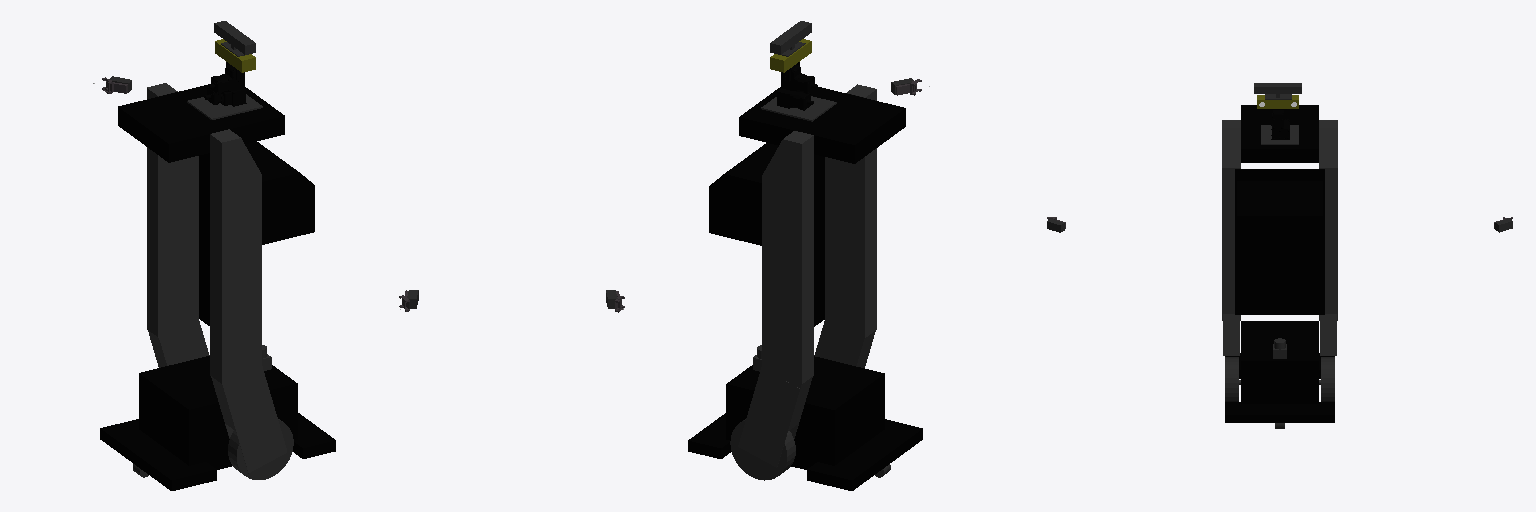
--- Render facts (derived) ---
The picture shows the robot from 3 angles, left to right: view 1: azimuth 30°, elevation 25°; view 2: azimuth 150°, elevation 25°; view 3: azimuth 270°, elevation 25°; orthographic projection.
Model phoebe with 41 links and 40 joints (16 revolute, 4 continuous, 4 prismatic, 16 fixed), rooted at base_footprint, posed all joints at 0.
Links seen in each view (by area): view 1: base_link, wheel_right, xtion_link, ptu_base_plate_link, bumblebee_link, ptu_tilt_link, ptu_pan_link; view 2: base_link, wheel_left, xtion_link, ptu_base_plate_link, bumblebee_link, ptu_tilt_link, ptu_pan_link; view 3: base_link, xtion_link, wheel_left, wheel_right.
Link boxes in pixels (bbox=[...]): base_link: bbox=[100, 83, 335, 490]; wheel_right: bbox=[228, 419, 293, 479]; xtion_link: bbox=[214, 21, 255, 56]; ptu_base_plate_link: bbox=[187, 94, 262, 119]; bumblebee_link: bbox=[215, 39, 255, 72]; ptu_tilt_link: bbox=[208, 65, 244, 94]; ptu_pan_link: bbox=[204, 87, 246, 106]; base_link: bbox=[688, 84, 922, 490]; wheel_left: bbox=[730, 419, 795, 480]; xtion_link: bbox=[770, 21, 811, 56]; ptu_base_plate_link: bbox=[761, 96, 836, 121]; bumblebee_link: bbox=[770, 39, 811, 72]; ptu_tilt_link: bbox=[781, 64, 817, 93]; ptu_pan_link: bbox=[777, 88, 813, 110]; base_link: bbox=[1222, 105, 1337, 422]; xtion_link: bbox=[1254, 83, 1301, 99]; wheel_left: bbox=[1321, 357, 1334, 401]; wheel_right: bbox=[1225, 357, 1238, 401].
Bounding box of the posed robot: 0.546 × 1.77 × 1.33 m (x, y, z).
6 mesh visuals loaded from 15 distinct referenced files (5 Collada DAE); not drawn: 20 (reference not matched to a file when rendering).

robot.urdf — phoebe:
<?xml version="1.0" ?>
<!-- =================================================================================== -->
<!-- |    This document was autogenerated by xacro from [local-path]/catkin_ws/src/mypb-robot/pb-robot/phoebe_description/phoebe.urdf.xacro | -->
<!-- |    EDITING THIS FILE BY HAND IS NOT RECOMMENDED                                 | -->
<!-- =================================================================================== -->
<robot name="phoebe" xmlns:xacro="http://www.ros.org/wiki/xacro">
  <gazebo>
    <plugin filename="libgazebo_ros_control.so" name="gazebo_ros_control">
      <publishTf>1</publishTf>
      <robotNamespace>/</robotNamespace>
      <robotSimType>gazebo_ros_control/DefaultRobotHWSim</robotSimType>
      <legacyModeNS>true</legacyModeNS>
    </plugin>
    <plugin filename="libgazebo_ros_joint_state_publisher.so" name="joint_state_publisher">
      <updateRate>50</updateRate>
    </plugin>
  </gazebo>
  <gazebo>
    <plugin filename="libroboticsgroup_gazebo_mimic_joint_plugin.so" name="right_finger_mimic_joint_plugin">
      <joint>right_arm_gripper_joint</joint>
      <mimicJoint>right_arm_gripper_joint2</mimicJoint>
      <multiplier>-1</multiplier>
      <maxEffort>100.0</maxEffort>
    </plugin>
  </gazebo>
  <gazebo>
    <plugin filename="libroboticsgroup_gazebo_mimic_joint_plugin.so" name="left_finger_mimic_joint_plugin">
      <joint>left_arm_gripper_joint</joint>
      <mimicJoint>left_arm_gripper_joint2</mimicJoint>
      <multiplier>-1</multiplier>
      <maxEffort>100.0</maxEffort>
    </plugin>
  </gazebo>
  <gazebo reference="base_link">
    <kp>1e+13</kp>
    <kd>1</kd>
    <mu1>1.0</mu1>
    <mu2>10.0</mu2>
    <material>Gazebo/Grey</material>
  </gazebo>
  <gazebo reference="left_arm_base_link">
    <kp>1e+13</kp>
    <kd>1</kd>
    <mu1>1.0</mu1>
    <mu2>10.0</mu2>
    <material>Gazebo/Black</material>
  </gazebo>
  <gazebo reference="right_arm_base_link">
    <kp>1e+13</kp>
    <kd>1</kd>
    <mu1>1.0</mu1>
    <mu2>10.0</mu2>
    <material>Gazebo/Black</material>
  </gazebo>
  <gazebo reference="wheel_left">
    <mu1 value="220.0"/>
    <mu2 value="100.0"/>
    <kp>1e+13</kp>
    <kd>1</kd>
    <material>Gazebo/White</material>
  </gazebo>
  <gazebo reference="wheel_right">
    <mu1 value="220.0"/>
    <mu2 value="100.0"/>
    <kp>1e+13</kp>
    <kd>1</kd>
    <material>Gazebo/White</material>
  </gazebo>
  <gazebo>
    <plugin filename="libgazebo_ros_diff_drive.so" name="differential_drive_controller">
      <alwaysOn>true</alwaysOn>
      <updateRate>50</updateRate>
      <leftJoint>wheel_left_joint</leftJoint>
      <rightJoint>wheel_right_joint</rightJoint>
      <wheelSeparation>0.31</wheelSeparation>
      <wheelDiameter>0.19</wheelDiameter>
      <torque>0.1</torque>
      <commandTopic>cmd_vel</commandTopic>
      <odometryTopic>odom</odometryTopic>
      <odometryFrame>odom</odometryFrame>
      <robotBaseFrame>base_footprint</robotBaseFrame>
      <legacyMode>false</legacyMode>
      <publishWheelTF>true</publishWheelTF>
      <publishOdomTF>true</publishOdomTF>
      <publishWheelJointState>true</publishWheelJointState>
      <publishTf>1</publishTf>
      <wheelAcceleration>1</wheelAcceleration>
      <wheelTorque>5</wheelTorque>
      <odometrySource>world</odometrySource>
    </plugin>
  </gazebo>
  <!--
  <gazebo reference="camera">
    <material>Gazebo/Green</material>
    <sensor type="camera" name="camera1">
      <update_rate>30.0</update_rate>
      <camera name="head">
        <horizontal_fov>1.3962634</horizontal_fov>
        <image>
          <width>800</width>
          <height>800</height>
          <format>R8G8B8</format>
        </image>
        <clip>
          <near>0.02</near>
          <far>300</far>
        </clip>
      </camera>
      <plugin name="camera_controller" filename="libgazebo_ros_camera.so">
        <alwaysOn>true</alwaysOn>
        <updateRate>0.0</updateRate>
        <cameraName>mybot/camera1</cameraName>
        <imageTopicName>image_raw</imageTopicName>
        <cameraInfoTopicName>camera_info</cameraInfoTopicName>
        <frameName>camera</frameName>
        <hackBaseline>0.07</hackBaseline>
        <distortionK1>0.0</distortionK1>
        <distortionK2>0.0</distortionK2>
        <distortionK3>0.0</distortionK3>
        <distortionT1>0.0</distortionT1>
        <distortionT2>0.0</distortionT2>
      </plugin>
    </sensor>
  </gazebo>
  -->
  <!-- <transmission name="wheel_left_joint_trans">
    <type>transmission_interface/SimpleTransmission</type>
    <joint name="wheel_left_joint">
      <hardwareInterface>hardware_interface/VelocityJointInterface</hardwareInterface>
    </joint>
    <actuator name="wheel_left_joint_motor">
      <hardwareInterface>hardware_interface/VelocityJointInterface</hardwareInterface>
    </actuator>
  </transmission>
  
  <transmission name="wheel_right_joint_trans">
    <type>transmission_interface/SimpleTransmission</type>
    <joint name="wheel_right_joint">
      <hardwareInterface>hardware_interface/VelocityJointInterface</hardwareInterface>
    </joint>
    <actuator name="wheel_right_joint_motor">
      <hardwareInterface>hardware_interface/VelocityJointInterface</hardwareInterface>
    </actuator>
  </transmission> -->
  <transmission name="ptu_pan_joint_trans">
    <type>transmission_interface/SimpleTransmission</type>
    <joint name="ptu_pan_joint">
      <hardwareInterface>hardware_interface/PositionJointInterface</hardwareInterface>
    </joint>
    <actuator name="ptu_pan_joint_motor">
      <hardwareInterface>hardware_interface/PositionJointInterface</hardwareInterface>
    </actuator>
  </transmission>
  <transmission name="ptu_tilt_joint_trans">
    <type>transmission_interface/SimpleTransmission</type>
    <joint name="ptu_tilt_joint">
      <hardwareInterface>hardware_interface/PositionJointInterface</hardwareInterface>
    </joint>
    <actuator name="ptu_tilt_joint_motor">
      <hardwareInterface>hardware_interface/PositionJointInterface</hardwareInterface>
    </actuator>
  </transmission>
  <gazebo reference="xtion_link">
    <sensor name="xtion_link_camera" type="depth">
      <update_rate>30</update_rate>
      <camera>
        <horizontal_fov>1.01229096</horizontal_fov>
        <image>
          <width>640</width>
          <height>480</height>
          <format>R8G8B8</format>
        </image>
        <clip>
          <near>0.08</near>
          <far>3.5</far>
        </clip>
      </camera>
      <plugin filename="libgazebo_ros_openni_kinect.so" name="xtion_link_controller">
        <baseline>0.2</baseline>
        <alwaysOn>true</alwaysOn>
        <updateRate>0.0</updateRate>
        <cameraName>xtion_ir</cameraName>
        <imageTopicName>/phoebe/color/image_raw</imageTopicName>
        <cameraInfoTopicName>/phoebe/color/camera_info</cameraInfoTopicName>
        <depthImageTopicName>/phoebe/depth/image_raw</depthImageTopicName>
        <depthImageInfoTopicName>/phoebe/depth/camera_info</depthImageInfoTopicName>
        <pointCloudTopicName>/phoebe/depth/points</pointCloudTopicName>
        <frameName>xtion_link</frameName>
        <pointCloudCutoff>0.5</pointCloudCutoff>
        <pointCloudCutoffMax>3.0</pointCloudCutoffMax>
        <distortionK1>0.00000001</distortionK1>
        <distortionK2>0.00000001</distortionK2>
        <distortionK3>0.00000001</distortionK3>
        <distortionT1>0.00000001</distortionT1>
        <distortionT2>0.00000001</distortionT2>
        <CxPrime>0</CxPrime>
        <Cx>0</Cx>
        <Cy>0</Cy>
        <focalLength>0</focalLength>
        <hackBaseline>0</hackBaseline>
      </plugin>
    </sensor>
  </gazebo>
  <!-- hokuyo -->
  <gazebo reference="hokuyo_link">
    <material>Gazebo/Black</material>
    <sensor name="head_hokuyo_sensor" type="ray">
      <pose>0 0 0 0 0 0</pose>
      <visualize>false</visualize>
      <update_rate>20</update_rate>
      <ray>
        <scan>
          <horizontal>
            <samples>720</samples>
            <resolution>1</resolution>
            <min_angle>-1.570796</min_angle>
            <max_angle>1.570796</max_angle>
          </horizontal>
        </scan>
        <range>
          <min>0.10</min>
          <max>30.0</max>
          <resolution>0.01</resolution>
        </range>
        <noise>
          <type>gaussian</type>
          <!-- Noise parameters based on published spec for Hokuyo laser
               achieving "+-30mm" accuracy at range < 10m.  A mean of 0.0m and
               stddev of 0.01m will put 99.7% of samples within 0.03m of the true
               reading. -->
          <mean>0.0</mean>
          <stddev>0.01</stddev>
        </noise>
      </ray>
      <plugin filename="libgazebo_ros_laser.so" name="gazebo_ros_head_hokuyo_controller">
        <topicName>/phoebe/laser/scan</topicName>
        <frameName>hokuyo_link</frameName>
      </plugin>
    </sensor>
  </gazebo>
  <link name="base_footprint"/>
  <joint name="base_joint" type="fixed">
    <origin rpy="0 0 0" xyz="0 0 0.0012"/>
    <parent link="base_footprint"/>
    <child link="base_link"/>
  </joint>
  <link name="base_link">
    <inertial>
      <origin rpy="0 0 0" xyz="-0.040872 0.0 0.56"/>
      <mass value="12"/>
      <!-- inretia tensor for solid cuboid: m=12, h=1.12, d=0.49, w=0.41 -->
      <inertia ixx="1.4225" ixy="0" ixz="0" iyy="1.4945" iyz="0" izz="0.4082"/>
    </inertial>
    <visual>
      <origin rpy="0 0 0" xyz="0 0 0"/>
      <geometry>
        <mesh filename="package://phoebe_description/meshes/phoebe.dae"/>
      </geometry>
    </visual>
    <collision>
      <origin rpy="0 0 0" xyz="0 0 0"/>
      <geometry>
        <mesh filename="package://phoebe_description/meshes/phoebe.dae"/>
      </geometry>
    </collision>
  </link>
  <joint name="wheel_rear_joint" type="continuous">
    <parent link="base_link"/>
    <child link="wheel_rear"/>
    <origin rpy="0 0 0" xyz="-0.29 0.0 0.020"/>
    <axis rpy="0 0 0" xyz="0 1 0"/>
    <limit effort="10000" velocity="1000"/>
    <joint_properties damping="1.0" friction="1.0"/>
  </joint>
  <link name="wheel_rear">
    <inertial>
      <!--origin rpy="0 0 0" xyz="0 0 0"/-->
      <origin rpy="0 1.5707 1.5707" xyz="0 0 0"/>
      <mass value="0.25"/>
      <!-- inretia tensor for solid cylinder: m=0.5, h=0.05, r=0.095 -->
      <inertia ixx="1.232291667e-03" ixy="0" ixz="0" iyy="1.232291667e-03" iyz="0" izz="2.25625e-03"/>
    </inertial>
    <visual>
      <origin rpy="0 1.5707 1.5707" xyz="0 0 0"/>
      <geometry>
        <cylinder length="0.04" radius="0.02"/>
      </geometry>
      <material name="blackish">
        <color rgba="0.2 0.2 0.2 1"/>
      </material>
    </visual>
    <collision>
      <origin rpy="0 1.5707 1.5707" xyz="0 0 0"/>
      <geometry>
        <cylinder length="0.04" radius="0.02"/>
      </geometry>
    </collision>
  </link>
  <joint name="wheel_front_joint" type="continuous">
    <parent link="base_link"/>
    <child link="wheel_front"/>
    <origin rpy="0 0 0" xyz="0.206 0 0.020"/>
    <axis rpy="0 0 0" xyz="0 1 0"/>
    <limit effort="10000" velocity="1000"/>
    <joint_properties damping="1.0" friction="1.0"/>
  </joint>
  <link name="wheel_front">
    <inertial>
      <!--origin rpy="0 0 0" xyz="0 0 0"/-->
      <origin rpy="0 1.5707 1.5707" xyz="0 0 0"/>
      <mass value="0.25"/>
      <inertia ixx="1.232291667e-03" ixy="0" ixz="0" iyy="1.232291667e-03" iyz="0" izz="2.25625e-03"/>
    </inertial>
    <visual>
      <origin rpy="0 1.5707 1.5707" xyz="0 0 0"/>
      <geometry>
        <cylinder length="0.04" radius="0.02"/>
      </geometry>
      <material name="blackish"/>
    </visual>
    <collision>
      <origin rpy="0 1.5707 1.5707" xyz="0 0 0"/>
      <geometry>
        <cylinder length="0.04" radius="0.02"/>
      </geometry>
    </collision>
  </link>
  <joint name="wheel_left_joint" type="continuous">
    <parent link="base_link"/>
    <child link="wheel_left"/>
    <!--origin rpy="1.570796 0 0" xyz="0.0 0.18 0.095"/-->
    <origin rpy="0 0 0" xyz="0.0 0.18 0.095"/>
    <!--axis xyz="0 0 1"/-->
    <axis xyz="0 1 0"/>
  </joint>
  <link name="wheel_left">
    <inertial>
      <!--origin rpy="0 0 0" xyz="0 0 0"/-->
      <origin rpy="0 1.5707 1.5707" xyz="0 0 0"/>
      <mass value="0.5"/>
      <!-- inretia tensor for solid cylinder: m=0.5, h=0.05, r=0.095 -->
      <inertia ixx="1.232291667e-03" ixy="0" ixz="0" iyy="1.232291667e-03" iyz="0" izz="2.25625e-03"/>
    </inertial>
    <visual>
      <!--origin rpy="0 0 0" xyz="0 0 0"/-->
      <origin rpy="0 1.5707 1.5707" xyz="0 0 0"/>
      <geometry>
        <cylinder length="0.05" radius="0.095"/>
      </geometry>
      <material name="blackish">
        <color rgba="0.2 0.2 0.2 1"/>
      </material>
    </visual>
    <collision>
      <!--origin rpy="0 0 0" xyz="0 0 0"/-->
      <origin rpy="0 1.5707 1.5707" xyz="0 0 0"/>
      <geometry>
        <cylinder length="0.05" radius="0.095"/>
      </geometry>
    </collision>
  </link>
  <joint name="wheel_right_joint" type="continuous">
    <parent link="base_link"/>
    <child link="wheel_right"/>
    <!--origin rpy="1.570796 0 0" xyz="0.0 -0.18 0.095"/-->
    <origin rpy="0 0 0" xyz="0.0 -0.18 0.095"/>
    <!--axis xyz="0 0 1"/-->
    <axis xyz="0 1 0"/>
  </joint>
  <link name="wheel_right">
    <inertial>
      <!--origin rpy="0 0 0" xyz="0 0 0"/-->
      <origin rpy="0 1.5707 1.5707" xyz="0 0 0"/>
      <mass value="0.5"/>
      <!-- inretia tensor for solid cylinder: m=0.5, h=0.05, r=0.095 -->
      <inertia ixx="1.232291667e-03" ixy="0" ixz="0" iyy="1.232291667e-03" iyz="0" izz="2.25625e-03"/>
    </inertial>
    <visual>
      <!--origin rpy="0 0 0" xyz="0 0 0"/-->
      <origin rpy="0 1.5707 1.5707" xyz="0 0 0"/>
      <geometry>
        <cylinder length="0.05" radius="0.095"/>
      </geometry>
      <material name="blackish"/>
    </visual>
    <collision>
      <!--origin rpy="0 0 0" xyz="0 0 0"/-->
      <origin rpy="0 1.5707 1.5707" xyz="0 0 0"/>
      <geometry>
        <cylinder length="0.05" radius="0.095"/>
      </geometry>
    </collision>
  </link>
  <!-- Cyton Gamma 1500 models -->
  <!-- Right arm -->
  <joint name="right_arm_joint" type="fixed">
    <parent link="base_link"/>
    <child link="right_arm_base_link"/>
    <origin rpy="1.5708 -1.5708 0" xyz="0.067 -0.162 0.8"/>
  </joint>
  <link name="right_arm_base_link">
    <visual>
      <origin rpy="0 0 0" xyz="0 0 0"/>
      <geometry>
        <mesh filename="package://cyton_gamma_1500_description/meshes/base.dae"/>
      </geometry>
    </visual>
    <inertial>
      <origin rpy="0 0 0" xyz="0.0 0 0"/>
      <mass value="0.478571"/>
      <!-- inretia tensor for solid cuboid: m=0.478571, w=0.177, h=0.074, d=0.150 -->
      <inertia ixx="1.47e-03" ixy="0" ixz="0" iyy="2.15e-03" iyz="0" izz="1.12e-03"/>
    </inertial>
    <collision>
      <!--origin xyz="0 0.0115 0.047"/-->
      <origin rpy="0 0 0" xyz="0 0 0"/>
      <geometry>
        <!--box size="0.154 0.177 0.094"/-->
        <box size="0.154 0.16 0.075"/>
      </geometry>
    </collision>
  </link>
  <joint name="right_arm_shoulder_roll_joint" type="revolute">
    <parent link="right_arm_base_link"/>
    <child link="right_arm_shoulder_roll"/>
    <origin rpy="0 0 0" xyz="0 0 0.05315"/>
    <limit effort="100.0" lower="-2.618" upper="2.618" velocity="1.0"/>
    <axis xyz="0 0 1"/>
  </joint>
  <link name="right_arm_shoulder_roll">
    <visual>
      <origin rpy="1.5708 0 0.384" xyz="0 0 0"/>
      <geometry>
        <mesh filename="package://cyton_gamma_1500_description/meshes/shoulder_roll.dae"/>
      </geometry>
    </visual>
    <collision>
      <origin xyz="0.0 0.0 0.0"/>
      <geometry>
        <!--box size="0.09829 0.18143 0.08392"/-->
        <box size="0.068 0.10 0.065"/>
      </geometry>
    </collision>
    <inertial>
      <origin rpy="0 0 0" xyz="0 0 0.12"/>
      <mass value="0.468571"/>
      <!-- inretia tensor for solid cylinder: m=0.468571, h=0.09248, r=0.044737 -->
      <inertia ixx="4.7e-04" ixy="0" ixz="0" iyy="5.7e-04" iyz="0" izz="5.7e-04"/>
    </inertial>
  </link>
  <joint name="right_arm_shoulder_pitch_joint" type="revolute">
    <parent link="right_arm_shoulder_roll"/>
    <child link="right_arm_shoulder_pitch"/>
    <origin rpy="0 0 0" xyz="0.0205 0 0.12435"/>
    <limit effort="100.0" lower="-1.8326" upper="1.8326" velocity="1.0"/>
    <axis xyz="1 0 0"/>
  </joint>
  <transmission name="right_arm_tran1">
    <type>transmission_interface/SimpleTransmission</type>
    <joint name="right_arm_shoulder_roll_joint">
      <hardwareInterface>hardware_interface/PositionJointInterface</hardwareInterface>
    </joint>
    <actuator name="right_arm_motor1">
      <hardwareInterface>hardware_interface/PositionJointInterface</hardwareInterface>
    </actuator>
  </transmission>
  <link name="right_arm_shoulder_pitch">
    <visual>
      <origin rpy="1.5708 0 0" xyz="0 0 0"/>
      <geometry>
        <mesh filename="package://cyton_gamma_1500_description/meshes/shoulder_pitch.dae"/>
      </geometry>
    </visual>
    <collision>
      <origin xyz="-0.02 0.0 0.0"/>
      <geometry>
        <sphere radius="0.055"/>
        <!--box size="0.098 0.08 0.11"/-->
      </geometry>
    </collision>
    <inertial>
      <!--origin rpy="0 0 0" xyz="-0.0214 0 0.117"/-->
      <origin rpy="0 0 0" xyz="0 0 0"/>
      <mass value="0.4285714"/>
      <!-- inretia tensor for solid cylinder: m=0.4285714, h=0.09248, r=0.04204 -->
      <inertia ixx="4.9e-04" ixy="0" ixz="0" iyy="3.8e-04" iyz="0" izz="4.9e-04"/>
    </inertial>
  </link>
  <joint name="right_arm_shoulder_yaw_joint" type="revolute">
    <parent link="right_arm_shoulder_pitch"/>
    <child link="right_arm_shoulder_yaw"/>
    <origin rpy="0 0 0" xyz="-0.0215 -0.0205 0.1255"/>
    <limit effort="100.0" lower="-1.8326" upper="1.8326" velocity="1.0"/>
    <axis xyz="0 -1 0"/>
  </joint>
  <transmission name="right_arm_tran2">
    <type>transmission_interface/SimpleTransmission</type>
    <joint name="right_arm_shoulder_pitch_joint">
      <hardwareInterface>hardware_interface/PositionJointInterface</hardwareInterface>
    </joint>
    <actuator name="right_arm_motor2">
      <hardwareInterface>hardware_interface/PositionJointInterface</hardwareInterface>
    </actuator>
  </transmission>
  <link name="right_arm_shoulder_yaw">
    <visual>
      <origin rpy="1.5708 0 -1.5708" xyz="0 0 0.0"/>
      <geometry>
        <mesh filename="package://cyton_gamma_1500_description/meshes/shoulder_yaw.dae"/>
      </geometry>
    </visual>
    <collision>
      <origin xyz=" -0.002 0.02 -0.01"/>
      <geometry>
        <sphere radius="0.055"/>
        <!--box size="0.08 0.1 0.11"/-->
      </geometry>
    </collision>
    <inertial>
      <!--origin rpy="0 0 0" xyz="-0.002 0.021 0.1135"/-->
      <origin rpy="0 0 0" xyz="0 0 0"/>
      <mass value="0.408571"/>
      <!-- inretia tensor for solid cylinder: m=0.408571, h=0.084081, r=0.036785 -->
      <inertia ixx="2.8e-04" ixy="0" ixz="0" iyy="3.8e-04" iyz="0" izz="3.8e-04"/>
    </inertial>
  </link>
  <transmission name="right_arm_tran3">
    <type>transmission_interface/SimpleTransmission</type>
    <joint name="right_arm_shoulder_yaw_joint">
      <hardwareInterface>hardware_interface/PositionJointInterface</hardwareInterface>
    </joint>
    <actuator name="right_arm_motor3">
      <hardwareInterface>hardware_interface/PositionJointInterface</hardwareInterface>
    </actuator>
  </transmission>
  <joint name="right_arm_elbow_pitch_joint" type="revolute">
    <parent link="right_arm_shoulder_yaw"/>
    <child link="right_arm_elbow_pitch"/>
    <origin rpy="0 0 0" xyz="0.018 0.0206 0.1158"/>
    <limit effort="100.0" lower="-1.8326" upper="1.8326" velocity="1.0"/>
    <axis xyz="1 0 0"/>
  </joint>
  <link name="right_arm_elbow_pitch">
    <visual>
      <origin rpy="1.5708 0 3.1416" xyz="0 0 0"/>
      <geometry>
        <mesh filename="package://cyton_gamma_1500_description/meshes/elbow_pitch.dae"/>
      </geometry>
    </visual>
    <collision>
      <origin xyz="-0.022 0.0 -0.006"/>
      <geometry>
        <sphere radius="0.055"/>
        <!--box size="0.09 0.1 0.11"/-->
      </geometry>
    </collision>
    <inertial>
      <origin rpy="0 0 0" xyz="0 0 0"/>
      <!--origin rpy="0 0 0" xyz="-0.0176 0.001 0.095"/-->
      <mass value="0.388671"/>
      <!-- inretia tensor for solid cylinder: m=0.388671, h=0.06705, r=0.028975 -->
      <inertia ixx="2.3e-04" ixy="0" ixz="0" iyy="1.6e-04" iyz="0" izz="2.3e-04"/>
    </inertial>
  </link>
  <transmission name="right_arm_tran4">
    <type>transmission_interface/SimpleTransmission</type>
    <joint name="right_arm_elbow_pitch_joint">
      <hardwareInterface>hardware_interface/PositionJointInterface</hardwareInterface>
    </joint>
    <actuator name="right_arm_motor4">
      <hardwareInterface>hardware_interface/PositionJointInterface</hardwareInterface>
    </actuator>
  </transmission>
  <joint name="right_arm_elbow_yaw_joint" type="revolute">
    <parent link="right_arm_elbow_pitch"/>
    <child link="right_arm_elbow_yaw"/>
    <origin rpy="0 0 0" xyz="-0.0171 -0.018 0.09746"/>
    <limit effort="100.0" lower="-1.8326" upper="1.8326" velocity="1.0"/>
    <axis xyz="0 -1 0"/>
  </joint>
  <link name="right_arm_elbow_yaw">
    <visual>
      <origin rpy="1.5708 0 1.5708" xyz="0 0 0"/>
      <geometry>
        <mesh filename="package://cyton_gamma_1500_description/meshes/elbow_yaw.dae"/>
      </geometry>
    </visual>
    <collision>
      <origin xyz="0.0 0.025 0.0"/>
      <geometry>
        <sphere radius="0.05"/>
      </geometry>
    </collision>
    <inertial>
      <!--origin rpy="0 0 0" xyz="0 0.018 0.073"/-->
      <origin rpy="0 0 0" xyz="0 0 0"/>
      <mass value="0.368871"/>
      <!-- inretia tensor for solid cylinder: m=0.368871, h=0.043602, r=0.024071 -->
      <inertia ixx="1.0686e-04" ixy="0" ixz="0" iyy="1.1187e-04" iyz="0" izz="1.1187e-04"/>
    </inertial>
  </link>
  <transmission name="right_arm_tran5">
    <type>transmission_interface/SimpleTransmission</type>
    <joint name="right_arm_elbow_yaw_joint">
      <hardwareInterface>hardware_interface/PositionJointInterface</hardwareInterface>
    </joint>
    <actuator name="right_arm_motor5">
      <hardwareInterface>hardware_interface/PositionJointInterface</hardwareInterface>
    </actuator>
  </transmission>
  <joint name="right_arm_wrist_pitch_joint" type="revolute">
    <parent link="right_arm_elbow_yaw"/>
    <child link="right_arm_wrist_pitch"/>
    <origin rpy="0 0 0" xyz="0.02626 0.018 0.0718"/>
    <limit effort="100.0" lower="-1.8326" upper="1.8326" velocity="1.0"/>
    <axis xyz="-1 0 0"/>
  </joint>
  <link name="right_arm_wrist_pitch">
    <visual>
      <origin rpy="1.5708 0 1.5708" xyz="0 0 0"/>
      <geometry>
        <mesh filename="package://cyton_gamma_1500_description/meshes/wrist_pitch.dae"/>
      </geometry>
    </visual>
    <collision>
      <origin xyz="-0.02 0.0 0.0"/>
      <geometry>
        <box size="0.07 0.06 0.11"/>
      </geometry>
    </collision>
    <inertial>
      <!--origin rpy="0 0 0" xyz="-0.027 -0.0005 0.028"/-->
      <origin rpy="0 0 0" xyz="0 0 0"/>
      <mass value="0.008"/>
      <!-- inretia tensor for solid cuboid: m=0.008, h=0.045602, w=0.0218, d=0.005 -->
      <inertia ixx="3.3349e-07" ixy="0" ixz="0" iyy="1.403e-06" iyz="0" izz="1.70319e-06"/>
    </inertial>
  </link>
  <transmission name="right_arm_tran6">
    <type>transmission_interface/SimpleTransmission</type>
    <joint name="right_arm_wrist_pitch_joint">
      <hardwareInterface>hardware_interface/PositionJointInterface</hardwareInterface>
    </joint>
    <actuator name="right_arm_motor6">
      <hardwareInterface>hardware_interface/PositionJointInterface</hardwareInterface>
    </actuator>
  </transmission>
  <joint name="right_arm_wrist_roll_joint" type="revolute">
    <parent link="right_arm_wrist_pitch"/>
    <child link="right_arm_wrist_roll"/>
    <origin rpy="0 0 0" xyz="-0.026255 0 0.051425"/>
    <limit effort="100.0" lower="-2.61799" upper="2.61799" velocity="1.0"/>
    <axis xyz="0 0 1"/>
  </joint>
  <link name="right_arm_wrist_roll">
    <visual>
      <origin rpy="3.1416 0 -1.5708" xyz="0 0 0"/>
      <geometry>
        <mesh filename="package://cyton_gamma_1500_description/meshes/wrist_roll.dae"/>
      </geometry>
    </visual>
    <collision>
      <origin xyz="0.0 0.008 0.04"/>
      <geometry>
        <box size="0.08 0.06 0.08"/>
      </geometry>
    </collision>
    <inertial>
      <!--origin rpy="0 0 0" xyz="0 0 0.029"/-->
      <origin rpy="0 0 0" xyz="0 0 0"/>
      <mass value="0.38"/>
      <!-- inretia tensor for solid cylinder: m=0.38, h=0.095, r=0.027975 -->
      <inertia ixx="3.6e-04" ixy="0" ixz="0" iyy="3.6e-04" iyz="0" izz="1.487e-04"/>
    </inertial>
  </link>
  <transmission name="right_arm_tran7">
    <type>transmission_interface/SimpleTransmission</type>
    <joint name="right_arm_wrist_roll_joint">
      <hardwareInterface>hardware_interface/PositionJointInterface</hardwareInterface>
    </joint>
    <actuator name="right_arm_motor7">
      <hardwareInterface>hardware_interface/PositionJointInterface</hardwareInterface>
    </actuator>
  </transmission>
  <joint name="right_arm_gripper_joint" type="prismatic">
    <parent link="right_arm_wrist_roll"/>
    <child link="right_arm_gripper_finger1"/>
    <origin rpy="0 0 0" xyz="-0.01331 0.00485 0.077225"/>
    <limit effort="100.0" lower="-0.008" upper="0.008" velocity="1.0"/>
    <axis xyz="1 0 0"/>
  </joint>
  <link name="right_arm_gripper_finger1">
    <visual>
      <origin rpy="0 0 0" xyz="0 0 0"/>
      <geometry>
        <mesh filename="package://cyton_gamma_1500_description/meshes/gripper_finger1.dae"/>
      </geometry>
    </visual>
    <collision>
      <!--origin xyz="-0.0167 0.0172 0.7254"/-->
      <origin xyz="0.0 0.008 0.04"/>
      <geometry>
        <box size="0.015 0.0229 0.0475"/>
      </geometry>
    </collision>
    <inertial>
      <!--origin rpy="0 0 0" xyz="0.0034 0.0096 0.017"/-->
      <origin rpy="0 0 0" xyz="0 0 0"/>
      <mass value="0.035"/>
      <!-- inretia tensor for solid cuboid: m=0.035, h=0.0323, w=0.01469, d=0.0224 -->
      <inertia ixx="4.5064e-06" ixy="0" ixz="0" iyy="3.6723e-06" iyz="0" izz="2.0929e-06"/>
    </inertial>
  </link>
  <transmission name="right_arm_tran8">
    <type>transmission_interface/SimpleTransmission</type>
    <joint name="right_arm_gripper_joint">
      <hardwareInterface>hardware_interface/PositionJointInterface</hardwareInterface>
    </joint>
    <actuator name="right_arm_motor8">
      <hardwareInterface>hardware_interface/PositionJointInterface</hardwareInterface>
    </actuator>
  </transmission>
  <joint name="right_arm_gripper_joint2" type="prismatic">
    <parent link="right_arm_wrist_roll"/>
    <child link="right_arm_gripper_finger2"/>
    <origin rpy="0 0 0" xyz="0.0098 0.00485 0.077225"/>
    <limit effort="100.0" lower="-0.008" upper="0.008" velocity="1.0"/>
    <mimic joint="right_arm_gripper_joint" multiplier="-1"/>
    <axis xyz="1 0 0"/>
  </joint>
  <link name="right_arm_gripper_finger2">
    <visual>
      <origin rpy="0 0 0" xyz="0 0 0"/>
      <geometry>
        <mesh filename="package://cyton_gamma_1500_description/meshes/gripper_finger2.dae"/>
      </geometry>
    </visual>
    <collision>
      <!--origin xyz="0.0132 0.0172 0.7254"/-->
      <origin xyz="0.0 0.008 0.04"/>
      <geometry>
        <box size="0.015 0.0229 0.0475"/>
      </geometry>
    </collision>
    <inertial>
      <!--origin rpy="0 0 0" xyz="0.0034 0.0096 0.017"/-->
      <origin rpy="0 0 0" xyz="0 0 0"/>
      <mass value="0.035"/>
      <!-- inretia tensor for solid cuboid: m=0.035, h=0.0323, w=0.01469, d=0.0224 -->
      <inertia ixx="4.5064e-06" ixy="0" ixz="0" iyy="3.6723e-06" iyz="0" izz="2.0929e-06"/>
    </inertial>
  </link>
  <!--
	<transmission name="${prefix}tran9">
		<type>transmission_interface/SimpleTransmission</type>
		<joint name="${prefix}gripper_joint2">
			<hardwareInterface>hardware_interface/PositionJointInterface</hardwareInterface>
		</joint>
		<actuator name="${prefix}motor9">
			<hardwareInterface>hardware_interface/PositionJointInterface</hardwareInterface>
		</actuator>
	</transmission>
      -->
  <!-- virtual end-effector -->
  <joint name="right_arm_virtual_endeffector_joint" type="fixed">
    <parent link="right_arm_wrist_roll"/>
    <child link="right_arm_virtual_endeffector"/>
    <origin rpy="0 0 0" xyz="-0.002316 0.0079 0.079425"/>
  </joint>
  <link name="right_arm_virtual_endeffector">
    <visual>
      <origin rpy="0 0 0" xyz="0 0 0"/>
      <geometry>
        <sphere radius="0.002"/>
      </geometry>
      <material name="grey">
        <color rgba="0.7 0.7 0.7 0.8"/>
      </material>
    </visual>
  </link>
  <joint name="right_arm_camera_bracket_joint" type="fixed">
    <parent link="right_arm_wrist_roll"/>
    <child link="right_arm_camera_bracket"/>
    <origin rpy="0 0 0" xyz="-0.0008 -0.028 0.0435"/>
  </joint>
  <link name="right_arm_camera_bracket">
    <visual>
      <origin rpy="0 0 0" xyz="0 0 0"/>
      <geometry>
        <mesh filename="package://cyton_gamma_1500_minicam_description/meshes/cam_bracket.dae"/>
      </geometry>
    </visual>
    <!--collision>
        <origin xyz="0.0 0.0 0.0"/>
        <geometry>
          <box size="0.03512 0.04821 0.07179"/>
        </geometry>
      </collision-->
  </link>
  <joint name="right_arm_camera_joint" type="fixed">
    <parent link="right_arm_camera_bracket"/>
    <child link="right_arm_camera"/>
    <origin rpy="-0.625 0 0" xyz="0.0 -0.028 -0.005"/>
  </joint>
  <link name="right_arm_camera">
    <visual>
      <origin rpy="0 0 0" xyz="0 0 0"/>
      <geometry>
        <box size="0.031 0.028 0.063"/>
      </geometry>
      <material name="blackish">
        <color rgba="0.2 0.2 0.2 1"/>
      </material>
    </visual>
    <collision>
      <origin rpy="0 0 0" xyz="0 0 0"/>
      <geometry>
        <box size="0.036 0.045 0.063"/>
      </geometry>
    </collision>
  </link>
  <!-- Left arm -->
  <joint name="left_arm_joint" type="fixed">
    <parent link="base_link"/>
    <child link="left_arm_base_link"/>
    <origin rpy="-1.5708 1.5708 0" xyz="0.067 0.162 0.8"/>
  </joint>
  <link name="left_arm_base_link">
    <visual>
      <origin rpy="0 0 0" xyz="0 0 0"/>
      <geometry>
        <mesh filename="package://cyton_gamma_1500_description/meshes/base.dae"/>
      </geometry>
    </visual>
    <inertial>
      <origin rpy="0 0 0" xyz="0.0 0 0"/>
      <mass value="0.478571"/>
      <!-- inretia tensor for solid cuboid: m=0.478571, w=0.177, h=0.074, d=0.150 -->
      <inertia ixx="1.47e-03" ixy="0" ixz="0" iyy="2.15e-03" iyz="0" izz="1.12e-03"/>
    </inertial>
    <collision>
      <!--origin xyz="0 0.0115 0.047"/-->
      <origin rpy="0 0 0" xyz="0 0 0"/>
      <geometry>
        <!--box size="0.154 0.177 0.094"/-->
        <box size="0.154 0.16 0.075"/>
      </geometry>
    </collision>
  </link>
  <joint name="left_arm_shoulder_roll_joint" type="revolute">
    <parent link="left_arm_base_link"/>
    <child link="left_arm_shoulder_roll"/>
    <origin rpy="0 0 0" xyz="0 0 0.05315"/>
    <limit effort="100.0" lower="-2.618" upper="2.618" velocity="1.0"/>
    <axis xyz="0 0 1"/>
  </joint>
  <link name="left_arm_shoulder_roll">
    <visual>
      <origin rpy="1.5708 0 0.384" xyz="0 0 0"/>
      <geometry>
        <mesh filename="package://cyton_gamma_1500_description/meshes/shoulder_roll.dae"/>
      </geometry>
    </visual>
    <collision>
      <origin xyz="0.0 0.0 0.0"/>
      <geometry>
        <!--box size="0.09829 0.18143 0.08392"/-->
        <box size="0.068 0.10 0.065"/>
      </geometry>
    </collision>
    <inertial>
      <origin rpy="0 0 0" xyz="0 0 0.12"/>
      <mass value="0.468571"/>
      <!-- inretia tensor for solid cylinder: m=0.468571, h=0.09248, r=0.044737 -->
      <inertia ixx="4.7e-04" ixy="0" ixz="0" iyy="5.7e-04" iyz="0" izz="5.7e-04"/>
    </inertial>
  </link>
  <joint name="left_arm_shoulder_pitch_joint" type="revolute">
    <parent link="left_arm_shoulder_roll"/>
    <child link="left_arm_shoulder_pitch"/>
    <origin rpy="0 0 0" xyz="0.0205 0 0.12435"/>
    <limit effort="100.0" lower="-1.8326" upper="1.8326" velocity="1.0"/>
    <axis xyz="1 0 0"/>
  </joint>
  <transmission name="left_arm_tran1">
    <type>transmission_interface/SimpleTransmission</type>
    <joint name="left_arm_shoulder_roll_joint">
      <hardwareInterface>hardware_interface/PositionJointInterface</hardwareInterface>
    </joint>
    <actuator name="left_arm_motor1">
      <hardwareInterface>hardware_interface/PositionJointInterface</hardwareInterface>
    </actuator>
  </transmission>
  <link name="left_arm_shoulder_pitch">
    <visual>
      <origin rpy="1.5708 0 0" xyz="0 0 0"/>
      <geometry>
        <mesh filename="package://cyton_gamma_1500_description/meshes/shoulder_pitch.dae"/>
      </geometry>
    </visual>
    <collision>
      <origin xyz="-0.02 0.0 0.0"/>
      <geometry>
        <sphere radius="0.055"/>
        <!--box size="0.098 0.08 0.11"/-->
      </geometry>
    </collision>
    <inertial>
      <!--origin rpy="0 0 0" xyz="-0.0214 0 0.117"/-->
      <origin rpy="0 0 0" xyz="0 0 0"/>
      <mass value="0.4285714"/>
      <!-- inretia tensor for solid cylinder: m=0.4285714, h=0.09248, r=0.04204 -->
      <inertia ixx="4.9e-04" ixy="0" ixz="0" iyy="3.8e-04" iyz="0" izz="4.9e-04"/>
    </inertial>
  </link>
  <joint name="left_arm_shoulder_yaw_joint" type="revolute">
    <parent link="left_arm_shoulder_pitch"/>
    <child link="left_arm_shoulder_yaw"/>
    <origin rpy="0 0 0" xyz="-0.0215 -0.0205 0.1255"/>
    <limit effort="100.0" lower="-1.8326" upper="1.8326" velocity="1.0"/>
    <axis xyz="0 -1 0"/>
  </joint>
  <transmission name="left_arm_tran2">
    <type>transmission_interface/SimpleTransmission</type>
    <joint name="left_arm_shoulder_pitch_joint">
      <hardwareInterface>hardware_interface/PositionJointInterface</hardwareInterface>
    </joint>
    <actuator name="left_arm_motor2">
      <hardwareInterface>hardware_interface/PositionJointInterface</hardwareInterface>
    </actuator>
  </transmission>
  <link name="left_arm_shoulder_yaw">
    <visual>
      <origin rpy="1.5708 0 -1.5708" xyz="0 0 0.0"/>
      <geometry>
        <mesh filename="package://cyton_gamma_1500_description/meshes/shoulder_yaw.dae"/>
      </geometry>
    </visual>
    <collision>
      <origin xyz=" -0.002 0.02 -0.01"/>
      <geometry>
        <sphere radius="0.055"/>
        <!--box size="0.08 0.1 0.11"/-->
      </geometry>
    </collision>
    <inertial>
      <!--origin rpy="0 0 0" xyz="-0.002 0.021 0.1135"/-->
      <origin rpy="0 0 0" xyz="0 0 0"/>
      <mass value="0.408571"/>
      <!-- inretia tensor for solid cylinder: m=0.408571, h=0.084081, r=0.036785 -->
      <inertia ixx="2.8e-04" ixy="0" ixz="0" iyy="3.8e-04" iyz="0" izz="3.8e-04"/>
    </inertial>
  </link>
  <transmission name="left_arm_tran3">
    <type>transmission_interface/SimpleTransmission</type>
    <joint name="left_arm_shoulder_yaw_joint">
      <hardwareInterface>hardware_interface/PositionJointInterface</hardwareInterface>
    </joint>
    <actuator name="left_arm_motor3">
      <hardwareInterface>hardware_interface/PositionJointInterface</hardwareInterface>
    </actuator>
  </transmission>
  <joint name="left_arm_elbow_pitch_joint" type="revolute">
    <parent link="left_arm_shoulder_yaw"/>
    <child link="left_arm_elbow_pitch"/>
    <origin rpy="0 0 0" xyz="0.018 0.0206 0.1158"/>
    <limit effort="100.0" lower="-1.8326" upper="1.8326" velocity="1.0"/>
    <axis xyz="1 0 0"/>
  </joint>
  <link name="left_arm_elbow_pitch">
    <visual>
      <origin rpy="1.5708 0 3.1416" xyz="0 0 0"/>
      <geometry>
        <mesh filename="package://cyton_gamma_1500_description/meshes/elbow_pitch.dae"/>
      </geometry>
    </visual>
    <collision>
      <origin xyz="-0.022 0.0 -0.006"/>
      <geometry>
        <sphere radius="0.055"/>
        <!--box size="0.09 0.1 0.11"/-->
      </geometry>
    </collision>
    <inertial>
      <origin rpy="0 0 0" xyz="0 0 0"/>
      <!--origin rpy="0 0 0" xyz="-0.0176 0.001 0.095"/-->
      <mass value="0.388671"/>
      <!-- inretia tensor for solid cylinder: m=0.388671, h=0.06705, r=0.028975 -->
      <inertia ixx="2.3e-04" ixy="0" ixz="0" iyy="1.6e-04" iyz="0" izz="2.3e-04"/>
    </inertial>
  </link>
  <transmission name="left_arm_tran4">
    <type>transmission_interface/SimpleTransmission</type>
    <joint name="left_arm_elbow_pitch_joint">
      <hardwareInterface>hardware_interface/PositionJointInterface</hardwareInterface>
    </joint>
    <actuator name="left_arm_motor4">
      <hardwareInterface>hardware_interface/PositionJointInterface</hardwareInterface>
    </actuator>
  </transmission>
  <joint name="left_arm_elbow_yaw_joint" type="revolute">
    <parent link="left_arm_elbow_pitch"/>
    <child link="left_arm_elbow_yaw"/>
    <origin rpy="0 0 0" xyz="-0.0171 -0.018 0.09746"/>
    <limit effort="100.0" lower="-1.8326" upper="1.8326" velocity="1.0"/>
    <axis xyz="0 -1 0"/>
  </joint>
  <link name="left_arm_elbow_yaw">
    <visual>
      <origin rpy="1.5708 0 1.5708" xyz="0 0 0"/>
      <geometry>
        <mesh filename="package://cyton_gamma_1500_description/meshes/elbow_yaw.dae"/>
      </geometry>
    </visual>
    <collision>
      <origin xyz="0.0 0.025 0.0"/>
      <geometry>
        <sphere radius="0.05"/>
      </geometry>
    </collision>
    <inertial>
      <!--origin rpy="0 0 0" xyz="0 0.018 0.073"/-->
      <origin rpy="0 0 0" xyz="0 0 0"/>
      <mass value="0.368871"/>
      <!-- inretia tensor for solid cylinder: m=0.368871, h=0.043602, r=0.024071 -->
      <inertia ixx="1.0686e-04" ixy="0" ixz="0" iyy="1.1187e-04" iyz="0" izz="1.1187e-04"/>
    </inertial>
  </link>
  <transmission name="left_arm_tran5">
    <type>transmission_interface/SimpleTransmission</type>
    <joint name="left_arm_elbow_yaw_joint">
      <hardwareInterface>hardware_interface/PositionJointInterface</hardwareInterface>
    </joint>
    <actuator name="left_arm_motor5">
      <hardwareInterface>hardware_interface/PositionJointInterface</hardwareInterface>
    </actuator>
  </transmission>
  <joint name="left_arm_wrist_pitch_joint" type="revolute">
    <parent link="left_arm_elbow_yaw"/>
    <child link="left_arm_wrist_pitch"/>
    <origin rpy="0 0 0" xyz="0.02626 0.018 0.0718"/>
    <limit effort="100.0" lower="-1.8326" upper="1.8326" velocity="1.0"/>
    <axis xyz="-1 0 0"/>
  </joint>
  <link name="left_arm_wrist_pitch">
    <visual>
      <origin rpy="1.5708 0 1.5708" xyz="0 0 0"/>
      <geometry>
        <mesh filename="package://cyton_gamma_1500_description/meshes/wrist_pitch.dae"/>
      </geometry>
    </visual>
    <collision>
      <origin xyz="-0.02 0.0 0.0"/>
      <geometry>
        <box size="0.07 0.06 0.11"/>
      </geometry>
    </collision>
    <inertial>
      <!--origin rpy="0 0 0" xyz="-0.027 -0.0005 0.028"/-->
      <origin rpy="0 0 0" xyz="0 0 0"/>
      <mass value="0.008"/>
      <!-- inretia tensor for solid cuboid: m=0.008, h=0.045602, w=0.0218, d=0.005 -->
      <inertia ixx="3.3349e-07" ixy="0" ixz="0" iyy="1.403e-06" iyz="0" izz="1.70319e-06"/>
    </inertial>
  </link>
  <transmission name="left_arm_tran6">
    <type>transmission_interface/SimpleTransmission</type>
    <joint name="left_arm_wrist_pitch_joint">
      <hardwareInterface>hardware_interface/PositionJointInterface</hardwareInterface>
    </joint>
    <actuator name="left_arm_motor6">
      <hardwareInterface>hardware_interface/PositionJointInterface</hardwareInterface>
    </actuator>
  </transmission>
  <joint name="left_arm_wrist_roll_joint" type="revolute">
    <parent link="left_arm_wrist_pitch"/>
    <child link="left_arm_wrist_roll"/>
    <origin rpy="0 0 0" xyz="-0.026255 0 0.051425"/>
    <limit effort="100.0" lower="-2.61799" upper="2.61799" velocity="1.0"/>
    <axis xyz="0 0 1"/>
  </joint>
  <link name="left_arm_wrist_roll">
    <visual>
      <origin rpy="3.1416 0 -1.5708" xyz="0 0 0"/>
      <geometry>
        <mesh filename="package://cyton_gamma_1500_description/meshes/wrist_roll.dae"/>
      </geometry>
    </visual>
    <collision>
      <origin xyz="0.0 0.008 0.04"/>
      <geometry>
        <box size="0.08 0.06 0.08"/>
      </geometry>
    </collision>
    <inertial>
      <!--origin rpy="0 0 0" xyz="0 0 0.029"/-->
      <origin rpy="0 0 0" xyz="0 0 0"/>
      <mass value="0.38"/>
      <!-- inretia tensor for solid cylinder: m=0.38, h=0.095, r=0.027975 -->
      <inertia ixx="3.6e-04" ixy="0" ixz="0" iyy="3.6e-04" iyz="0" izz="1.487e-04"/>
    </inertial>
  </link>
  <transmission name="left_arm_tran7">
    <type>transmission_interface/SimpleTransmission</type>
    <joint name="left_arm_wrist_roll_joint">
      <hardwareInterface>hardware_interface/PositionJointInterface</hardwareInterface>
    </joint>
    <actuator name="left_arm_motor7">
      <hardwareInterface>hardware_interface/PositionJointInterface</hardwareInterface>
    </actuator>
  </transmission>
  <joint name="left_arm_gripper_joint" type="prismatic">
    <parent link="left_arm_wrist_roll"/>
    <child link="left_arm_gripper_finger1"/>
    <origin rpy="0 0 0" xyz="-0.01331 0.00485 0.077225"/>
    <limit effort="100.0" lower="-0.008" upper="0.008" velocity="1.0"/>
    <axis xyz="1 0 0"/>
  </joint>
  <link name="left_arm_gripper_finger1">
    <visual>
      <origin rpy="0 0 0" xyz="0 0 0"/>
      <geometry>
        <mesh filename="package://cyton_gamma_1500_description/meshes/gripper_finger1.dae"/>
      </geometry>
    </visual>
    <collision>
      <!--origin xyz="-0.0167 0.0172 0.7254"/-->
      <origin xyz="0.0 0.008 0.04"/>
      <geometry>
        <box size="0.015 0.0229 0.0475"/>
      </geometry>
    </collision>
    <inertial>
      <!--origin rpy="0 0 0" xyz="0.0034 0.0096 0.017"/-->
      <origin rpy="0 0 0" xyz="0 0 0"/>
      <mass value="0.035"/>
      <!-- inretia tensor for solid cuboid: m=0.035, h=0.0323, w=0.01469, d=0.0224 -->
      <inertia ixx="4.5064e-06" ixy="0" ixz="0" iyy="3.6723e-06" iyz="0" izz="2.0929e-06"/>
    </inertial>
  </link>
  <transmission name="left_arm_tran8">
    <type>transmission_interface/SimpleTransmission</type>
    <joint name="left_arm_gripper_joint">
      <hardwareInterface>hardware_interface/PositionJointInterface</hardwareInterface>
    </joint>
    <actuator name="left_arm_motor8">
      <hardwareInterface>hardware_interface/PositionJointInterface</hardwareInterface>
    </actuator>
  </transmission>
  <joint name="left_arm_gripper_joint2" type="prismatic">
    <parent link="left_arm_wrist_roll"/>
    <child link="left_arm_gripper_finger2"/>
    <origin rpy="0 0 0" xyz="0.0098 0.00485 0.077225"/>
    <limit effort="100.0" lower="-0.008" upper="0.008" velocity="1.0"/>
    <mimic joint="left_arm_gripper_joint" multiplier="-1"/>
    <axis xyz="1 0 0"/>
  </joint>
  <link name="left_arm_gripper_finger2">
    <visual>
      <origin rpy="0 0 0" xyz="0 0 0"/>
      <geometry>
        <mesh filename="package://cyton_gamma_1500_description/meshes/gripper_finger2.dae"/>
      </geometry>
    </visual>
    <collision>
      <!--origin xyz="0.0132 0.0172 0.7254"/-->
      <origin xyz="0.0 0.008 0.04"/>
      <geometry>
        <box size="0.015 0.0229 0.0475"/>
      </geometry>
    </collision>
    <inertial>
      <!--origin rpy="0 0 0" xyz="0.0034 0.0096 0.017"/-->
      <origin rpy="0 0 0" xyz="0 0 0"/>
      <mass value="0.035"/>
      <!-- inretia tensor for solid cuboid: m=0.035, h=0.0323, w=0.01469, d=0.0224 -->
      <inertia ixx="4.5064e-06" ixy="0" ixz="0" iyy="3.6723e-06" iyz="0" izz="2.0929e-06"/>
    </inertial>
  </link>
  <!--
	<transmission name="${prefix}tran9">
		<type>transmission_interface/SimpleTransmission</type>
		<joint name="${prefix}gripper_joint2">
			<hardwareInterface>hardware_interface/PositionJointInterface</hardwareInterface>
		</joint>
		<actuator name="${prefix}motor9">
			<hardwareInterface>hardware_interface/PositionJointInterface</hardwareInterface>
		</actuator>
	</transmission>
      -->
  <!-- virtual end-effector -->
  <joint name="left_arm_virtual_endeffector_joint" type="fixed">
    <parent link="left_arm_wrist_roll"/>
    <child link="left_arm_virtual_endeffector"/>
    <origin rpy="0 0 0" xyz="-0.002316 0.0079 0.079425"/>
  </joint>
  <link name="left_arm_virtual_endeffector">
    <visual>
      <origin rpy="0 0 0" xyz="0 0 0"/>
      <geometry>
        <sphere radius="0.002"/>
      </geometry>
      <material name="grey">
        <color rgba="0.7 0.7 0.7 0.8"/>
      </material>
    </visual>
  </link>
  <joint name="left_arm_camera_bracket_joint" type="fixed">
    <parent link="left_arm_wrist_roll"/>
    <child link="left_arm_camera_bracket"/>
    <origin rpy="0 0 0" xyz="-0.0008 -0.028 0.0435"/>
  </joint>
  <link name="left_arm_camera_bracket">
    <visual>
      <origin rpy="0 0 0" xyz="0 0 0"/>
      <geometry>
        <mesh filename="package://cyton_gamma_1500_minicam_description/meshes/cam_bracket.dae"/>
      </geometry>
    </visual>
    <!--collision>
        <origin xyz="0.0 0.0 0.0"/>
        <geometry>
          <box size="0.03512 0.04821 0.07179"/>
        </geometry>
      </collision-->
  </link>
  <joint name="left_arm_camera_joint" type="fixed">
    <parent link="left_arm_camera_bracket"/>
    <child link="left_arm_camera"/>
    <origin rpy="-0.625 0 0" xyz="0.0 -0.028 -0.005"/>
  </joint>
  <link name="left_arm_camera">
    <visual>
      <origin rpy="0 0 0" xyz="0 0 0"/>
      <geometry>
        <box size="0.031 0.028 0.063"/>
      </geometry>
      <material name="blackish">
        <color rgba="0.2 0.2 0.2 1"/>
      </material>
    </visual>
    <collision>
      <origin rpy="0 0 0" xyz="0 0 0"/>
      <geometry>
        <box size="0.036 0.045 0.063"/>
      </geometry>
    </collision>
  </link>
  <!-- PTU -->
  <joint name="ptu_joint" type="fixed">
    <parent link="base_link"/>
    <child link="ptu_base_plate_link"/>
    <origin rpy="0 0 0" xyz="0.02 0 1.1075"/>
  </joint>
  <link name="ptu_base_plate_link">
    <inertial>
      <origin rpy="0 0 0" xyz="-0.034 0 0"/>
      <mass value="0.07"/>
      <!-- inretia tensor for solid cuboid: m=0.07, h=0.005, w=0.142, d=0.17 -->
      <inertia ixx="1.1777e-04" ixy="0" ixz="0" iyy="1.6873e-04" iyz="0" izz="2.8621e-04"/>
    </inertial>
    <visual>
      <origin rpy="0 0 0" xyz="-0.035 0 0.0025"/>
      <geometry>
        <box size="0.17 0.142 0.005"/>
      </geometry>
      <material name="black">
        <color rgba="0.2 0.2 0.2 1"/>
      </material>
    </visual>
  </link>
  <joint name="ptu_base_plate_joint" type="fixed">
    <parent link="ptu_base_plate_link"/>
    <child link="ptu_base_link"/>
    <origin rpy="0 0 0" xyz="0.0 0.0 0.0"/>
  </joint>
  <link name="ptu_base_link">
    </link>
  <joint name="ptu_base_joint" type="fixed">
    <parent link="ptu_base_link"/>
    <child link="ptu_pan_link"/>
    <origin rpy="0 0 0" xyz="0.0 0 0.005"/>
  </joint>
  <link name="ptu_pan_link">
    <inertial>
      <origin rpy="0 0 0" xyz="0 0 0.06"/>
      <mass value="0.13"/>
      <!-- inretia tensor for solid cuboid: m=0.13, h=0.07, w=0.046, d=0.105 -->
      <inertia ixx="7.6006e-05" ixy="0" ixz="0" iyy="1.4136e-04" iyz="0" izz="1.7892e-04"/>
    </inertial>
    <visual>
      <origin rpy="0 0 0" xyz="0 0.0 0.025"/>
      <geometry>
        <mesh filename="package://dp_ptu_46_description/meshes/pan.dae"/>
      </geometry>
    </visual>
    <collision>
      <origin xyz="0 0.0115 0.047"/>
      <geometry>
        <box size="0.154 0.177 0.094"/>
      </geometry>
    </collision>
  </link>
  <joint name="ptu_pan_joint" type="revolute">
    <parent link="ptu_base_link"/>
    <child link="ptu_tilt_link"/>
    <origin rpy="0 0 0" xyz="-0.00436 -0.0067 0.03"/>
    <limit effort="100.0" lower="-2.775" upper="2.775" velocity="1.0"/>
    <axis xyz="0 0 1"/>
  </joint>
  <link name="ptu_tilt_link">
    <inertial>
      <origin rpy="0 0 0" xyz="-0.03 0 0.05"/>
      <mass value="0.13"/>
      <!-- inretia tensor for solid cuboid: m=0.13, h=0.07, w=0.046, d=0.105 -->
      <inertia ixx="7.6006e-05" ixy="0" ixz="0" iyy="1.7252e-04" iyz="0" izz="1.4136e-04"/>
    </inertial>
    <visual>
      <origin rpy="0 0 0" xyz="0.00436 0.0067 0.0"/>
      <geometry>
        <mesh filename="package://dp_ptu_46_description/meshes/tilt.dae"/>
      </geometry>
    </visual>
    <collision>
      <origin xyz="0 0.0115 0.047"/>
      <geometry>
        <box size="0.154 0.177 0.094"/>
      </geometry>
    </collision>
  </link>
  <joint name="ptu_tilt_joint" type="revolute">
    <parent link="ptu_tilt_link"/>
    <child link="ptu_mount_link"/>
    <origin rpy="0 0 0" xyz="0.0 0 0.0659"/>
    <limit effort="100.0" lower="-1.396" upper="0.541" velocity="1.0"/>
    <axis xyz="0 -1 0"/>
  </joint>
  <link name="ptu_mount_link">
    <visual>
      <origin rpy="0 0 0" xyz="0.00436 0.0067 -0.0659"/>
      <geometry>
        <mesh filename="package://dp_ptu_46_description/meshes/mount.dae"/>
      </geometry>
    </visual>
    <collision>
      <origin xyz="0 0.0115 0.047"/>
      <geometry>
        <box size="0.154 0.177 0.094"/>
      </geometry>
    </collision>
  </link>
  <!-- Hokuyo lidar -->
  <joint name="hokuyo_base_joint" type="fixed">
    <parent link="base_link"/>
    <child link="hokuyo_link"/>
    <origin rpy="0 0 0" xyz="0.1 0 0.3"/>
  </joint>
  <link name="hokuyo_link">
    <inertial>
      <origin rpy="0 0 0" xyz="0 0 -0.02"/>
      <mass value="0.13"/>
      <!-- inretia tensor for solid cuboid: m=0.13, h=0.07, w=0.05, d=0.05 -->
      <inertia ixx="8.0167e-05" ixy="0" ixz="0" iyy="8.0167e-05" iyz="0" izz="5.4167e-05"/>
    </inertial>
    <visual>
      <origin rpy="0 0 0" xyz="0 0 0"/>
      <geometry>
        <cylinder length="0.0265" radius="0.021"/>
      </geometry>
      <material name="blackish"/>
    </visual>
    <visual>
      <origin rpy="0 0 0" xyz="0 0 -0.034"/>
      <geometry>
        <box size="0.05 0.05 0.041"/>
      </geometry>
      <material name="blackish"/>
    </visual>
    <collision>
      <origin rpy="0 0 0" xyz="0 0 0"/>
      <geometry>
        <cylinder length="0.0265" radius="0.021"/>
      </geometry>
    </collision>
    <collision>
      <origin rpy="0 0 0" xyz="0 0 -0.047"/>
      <geometry>
        <box size="0.05 0.05 0.041"/>
      </geometry>
    </collision>
  </link>
  <!-- Bumblebee 2 -->
  <joint name="bumblebee_joint" type="fixed">
    <parent link="ptu_mount_link"/>
    <child link="bumblebee_link"/>
    <origin rpy="0 0 0" xyz="0 0 0.058"/>
  </joint>
  <link name="bumblebee_link">
    <inertial>
      <origin rpy="0 0 0" xyz="0 0 0"/>
      <mass value="0.342"/>
      <!-- inretia tensor for solid cuboid: m=0.342, h=0.036, w=0.157, d=0.0474 -->
      <inertia ixx="7.3943e-04" ixy="0" ixz="0" iyy="1.0096e-04" iyz="0" izz="7.6653e-04"/>
    </inertial>
    <visual>
      <origin rpy="0 0 0" xyz="0 0 0"/>
      <geometry>
        <box size="0.047 0.157 0.038"/>
      </geometry>
      <material name="golden">
        <color rgba="0.4 0.4 0.1 1"/>
      </material>
    </visual>
  </link>
  <joint name="bumblebee_cameras_joint" type="fixed">
    <parent link="bumblebee_link"/>
    <child link="bumblebee_cameras_link"/>
    <origin rpy="0 0 0" xyz="0 0 0.0"/>
  </joint>
  <link name="bumblebee_cameras_link">
    <visual>
      <origin rpy="0 1.5708 0" xyz="0.024 0.06 0"/>
      <geometry>
        <cylinder length="0.001" radius="0.011"/>
      </geometry>
      <material name="glass">
        <color rgba="1 1 1 0.2"/>
      </material>
    </visual>
    <visual>
      <origin rpy="0 1.5708 0" xyz="0.024 -0.06 0"/>
      <geometry>
        <cylinder length="0.001" radius="0.011"/>
      </geometry>
      <material name="glass"/>
    </visual>
  </link>
  <!-- Asus Xtion Pro Live -->
  <joint name="xtion_joint" type="fixed">
    <parent link="bumblebee_link"/>
    <child link="xtion_link"/>
    <origin rpy="0 0 0" xyz="0 0 0.055"/>
  </joint>
  <link name="xtion_link">
    <inertial>
      <origin rpy="0 0 0" xyz="0 0 0"/>
      <mass value="0.54"/>
      <!-- inretia tensor for solid cuboid: m=0.54, h=0.034, w=0.18, d=0.034 -->
      <inertia ixx="1.51e-03" ixy="0" ixz="0" iyy="1.0404e-04" iyz="0" izz="1.51e-03"/>
    </inertial>
    <visual>
      <origin rpy="0 0 0" xyz="0 0 0"/>
      <geometry>
        <box size="0.036 0.178 0.03"/>
      </geometry>
      <material name="blackish"/>
    </visual>
    <visual>
      <origin rpy="0 0 0" xyz="0 0 -0.025"/>
      <geometry>
        <box size="0.02 0.017 0.02"/>
      </geometry>
      <material name="blackish"/>
    </visual>
    <visual>
      <origin rpy="0 0 0" xyz="0 0 -0.035"/>
      <geometry>
        <box size="0.04 0.1 0.004"/>
      </geometry>
      <material name="blackish"/>
    </visual>
  </link>
</robot>
